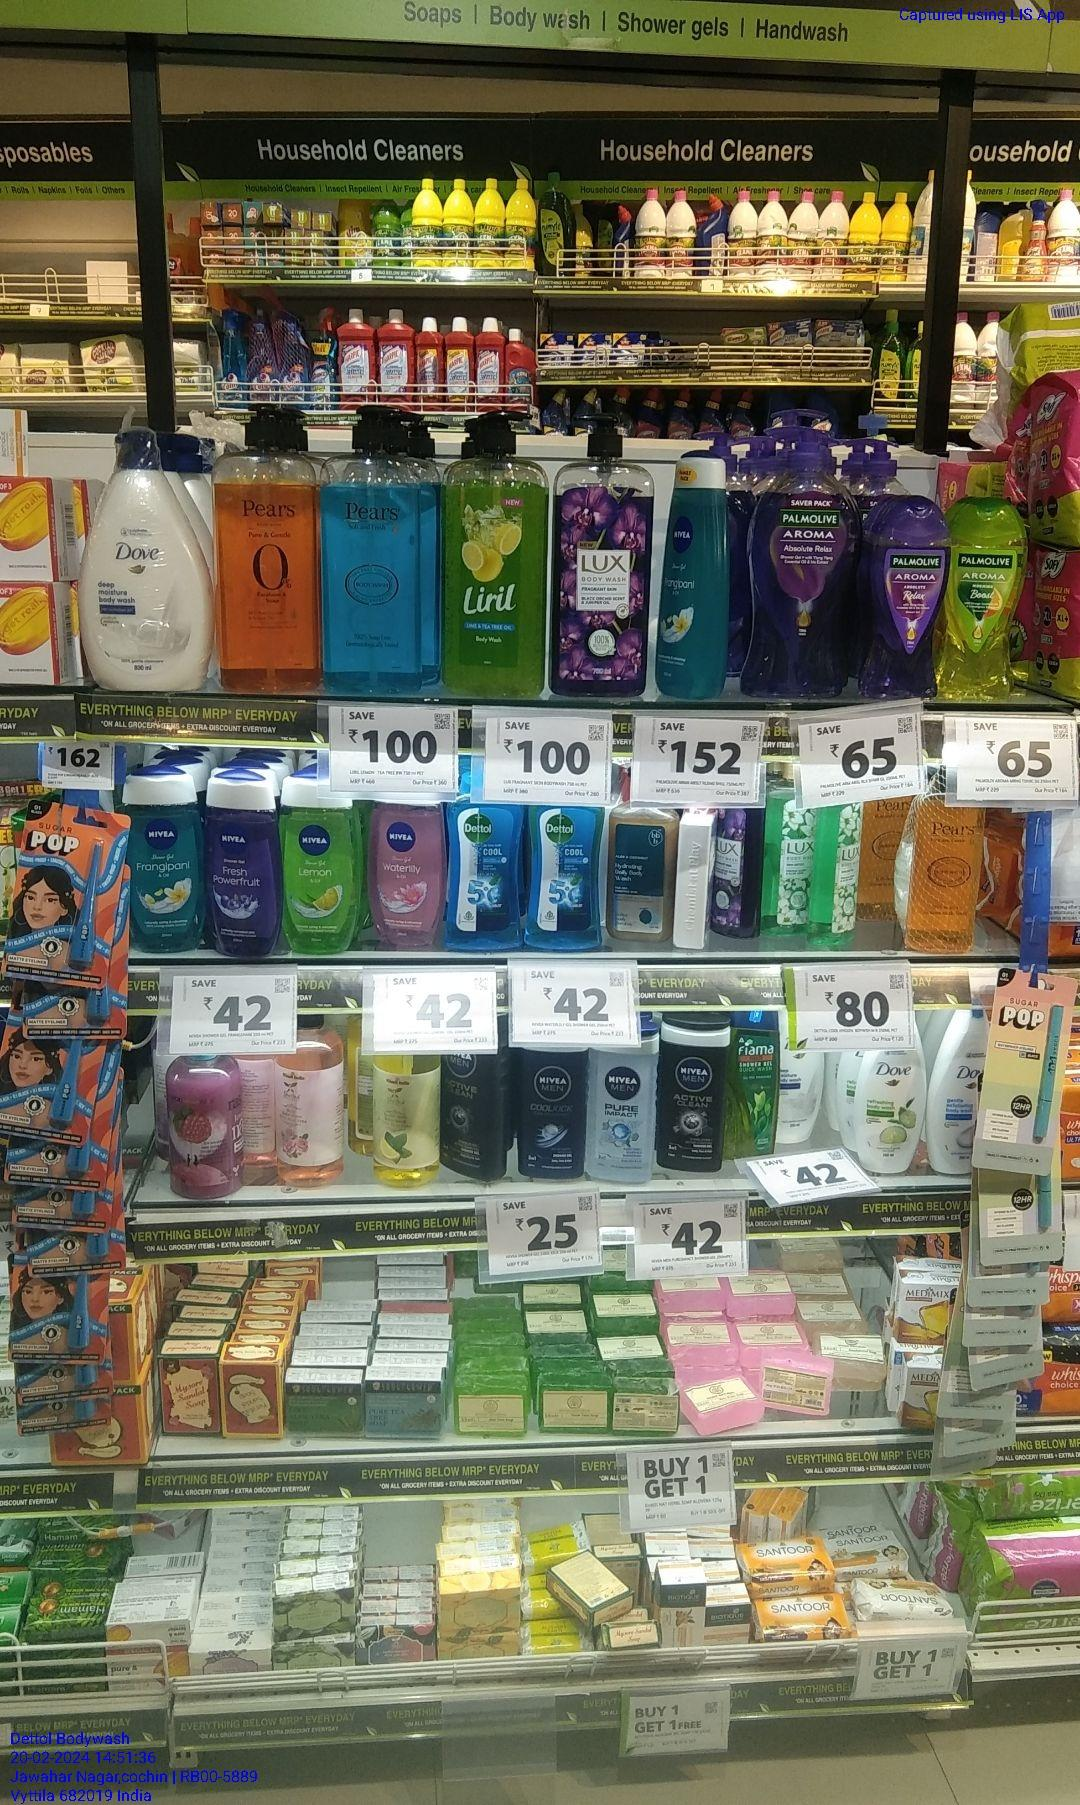Dettol_Bodywash_Cool: (528, 802, 602, 949), (453, 798, 523, 946)
Dove_Gentle_Exfoliating_Body_Wash_250ML: (931, 1004, 972, 1178)
Dove_Refreshing_Body_Wash_250ML: (856, 1044, 926, 1174)
Lux_Black_Orchid_Scent_and_Juniper_Oil_Body_Wash_245ML: (714, 805, 756, 942)
Lux_Body_Wash_Skin_Detox_Freesia_Scent_and_Alove_Vera_245ML: (813, 806, 865, 942), (764, 805, 806, 935)
Nivea_Shower_Gel_Frangipani_and_Oil_250ML: (658, 442, 728, 694), (135, 775, 207, 951)
Nivea_Shower_Gel_Fresh_Powerfruit_250ML: (212, 777, 278, 960)
Nivea_Shower_Gel_Lemon_and_Oil_250ML: (282, 786, 363, 951)
Nivea_Shower_Gel_Waterlily_and_Oil_250ML: (366, 796, 447, 946)
Palmolive_Aroma_Relax_250ML: (858, 487, 950, 706)
